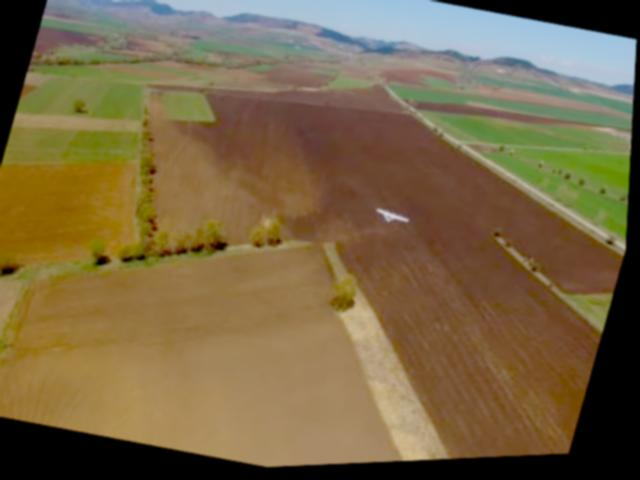uav: (367, 199, 418, 240)
